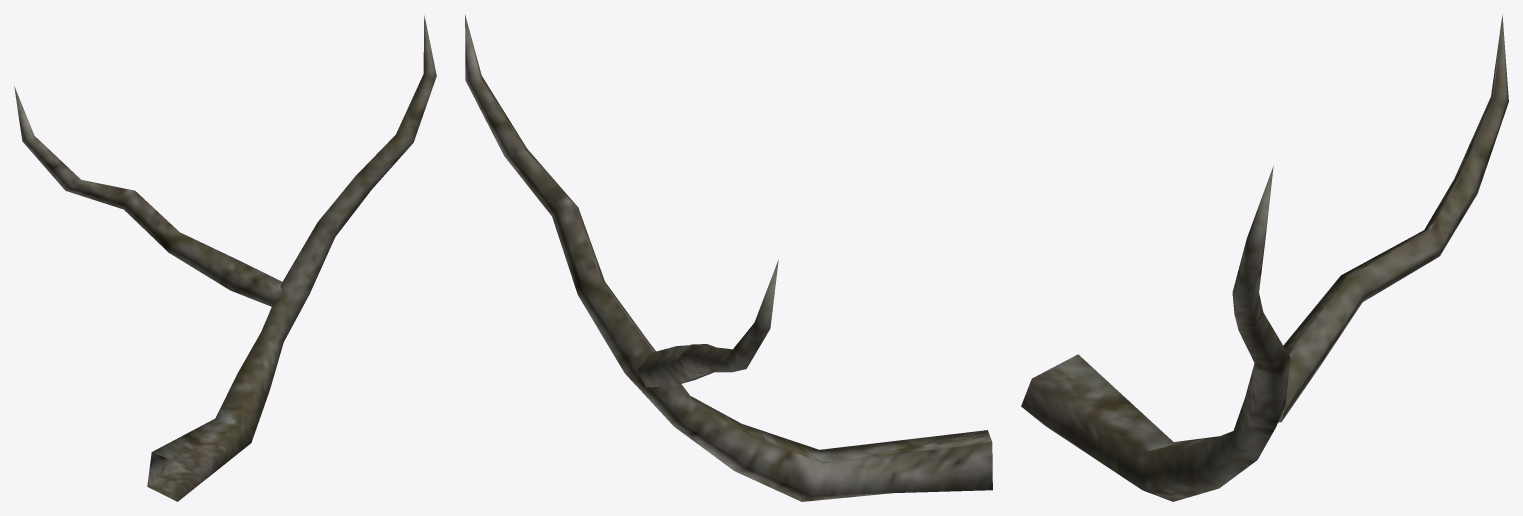
File: tree_k009.FBX
3 views of the same model, side by side, from view 1: azimuth 30°, elevation 25°; view 2: azimuth 150°, elevation 25°; view 3: azimuth 270°, elevation 25° (orthographic). The views are drawn at different scales.
Parts seen in each view (by area): view 1: tree_k009; view 2: tree_k009; view 3: tree_k009.
Part boxes in pixels (<box>): tree_k009: <box>14,15,436,501</box>; tree_k009: <box>465,14,992,501</box>; tree_k009: <box>1021,14,1508,501</box>.
Bounding box in the file's own units: 2.19 × 2.11 × 1.9.
1 material, 1 textured.
